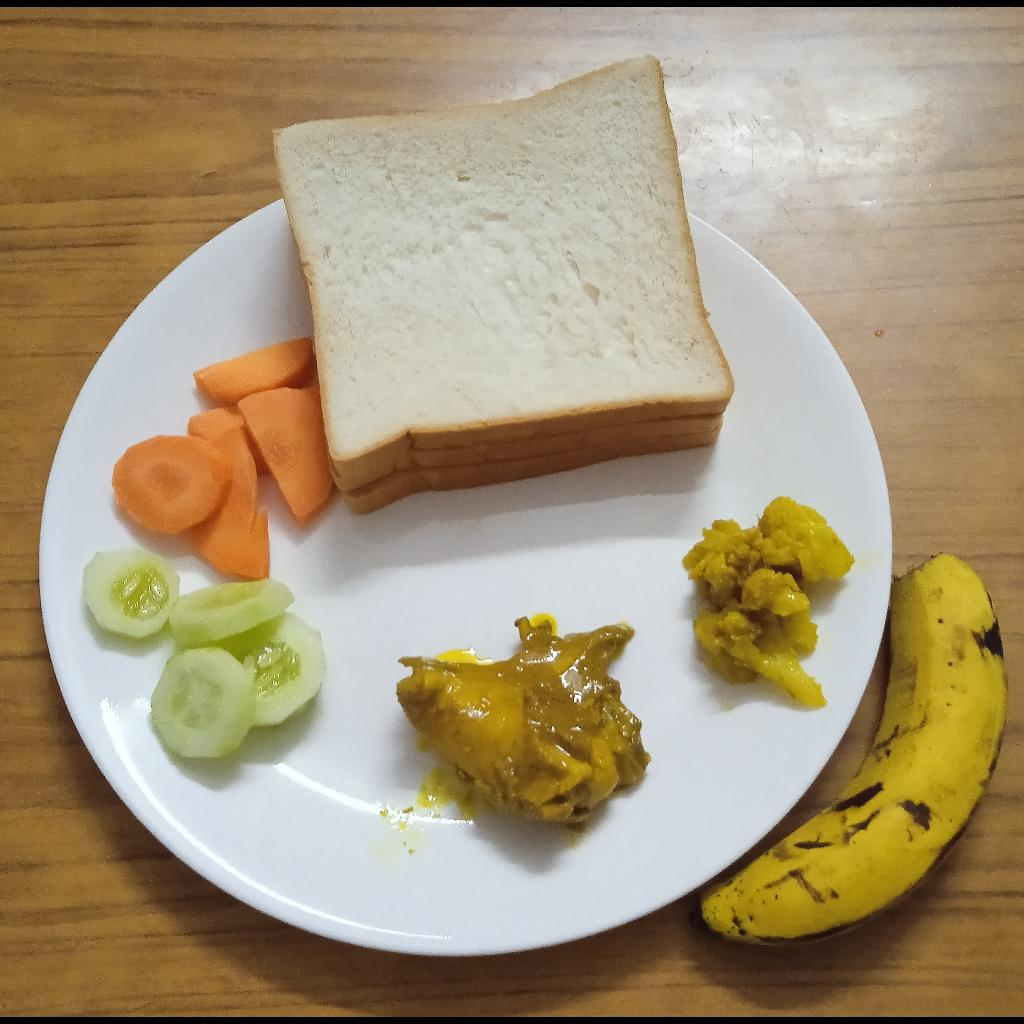bread: (271, 56, 733, 517)
